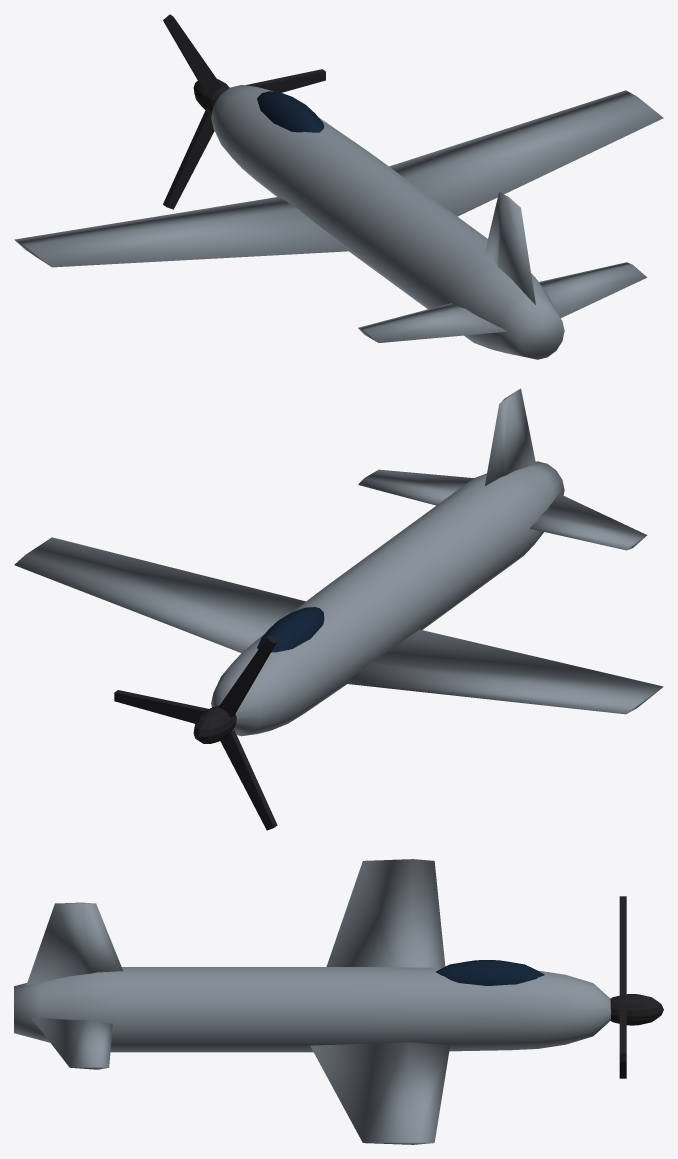
3 renders of one model, top to bottom at view 1: azimuth 30°, elevation 25°; view 2: azimuth 150°, elevation 25°; view 3: azimuth 270°, elevation 25°, orthographic. The views are drawn at different scales.
Parts seen in each view (by area): view 1: Body, Detail, Canopy; view 2: Body, Detail, Canopy; view 3: Body, Detail, Canopy.
Boxes of the visible parts, x1=… form: Body: x1=14, y1=85, x2=663, y2=359; Detail: x1=163, y1=14, x2=325, y2=209; Canopy: x1=257, y1=91, x2=324, y2=132; Body: x1=14, y1=388, x2=663, y2=736; Detail: x1=114, y1=635, x2=277, y2=830; Canopy: x1=257, y1=607, x2=324, y2=652; Body: x1=14, y1=859, x2=610, y2=1144; Detail: x1=610, y1=896, x2=663, y2=1078; Canopy: x1=436, y1=960, x2=544, y2=985.
Size of the model in its own units: 9.9 by 3.23 by 9.64.
